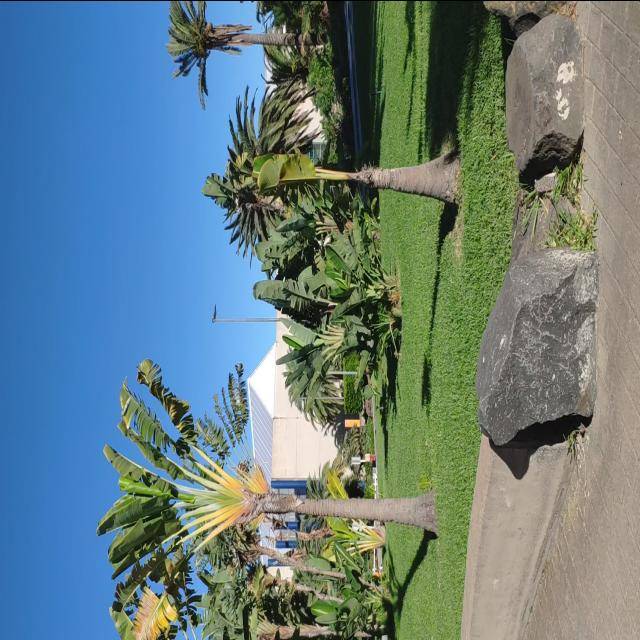Palm-Trees: (167, 0, 311, 95)
